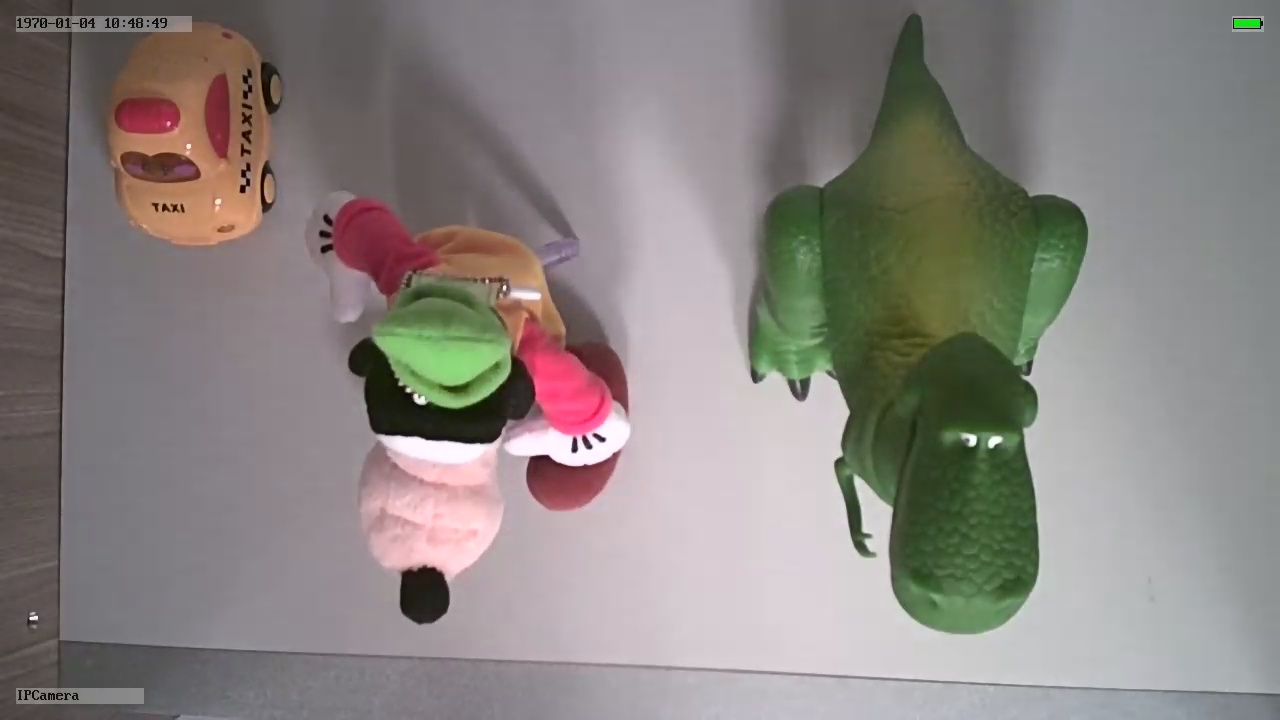car: (107, 24, 281, 245)
goofy: (296, 176, 635, 631)
rex: (745, 83, 1089, 637)
